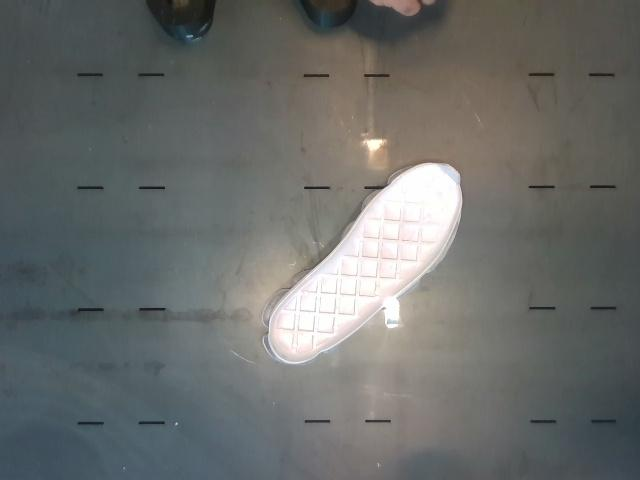shoes: (268, 163, 461, 362)
